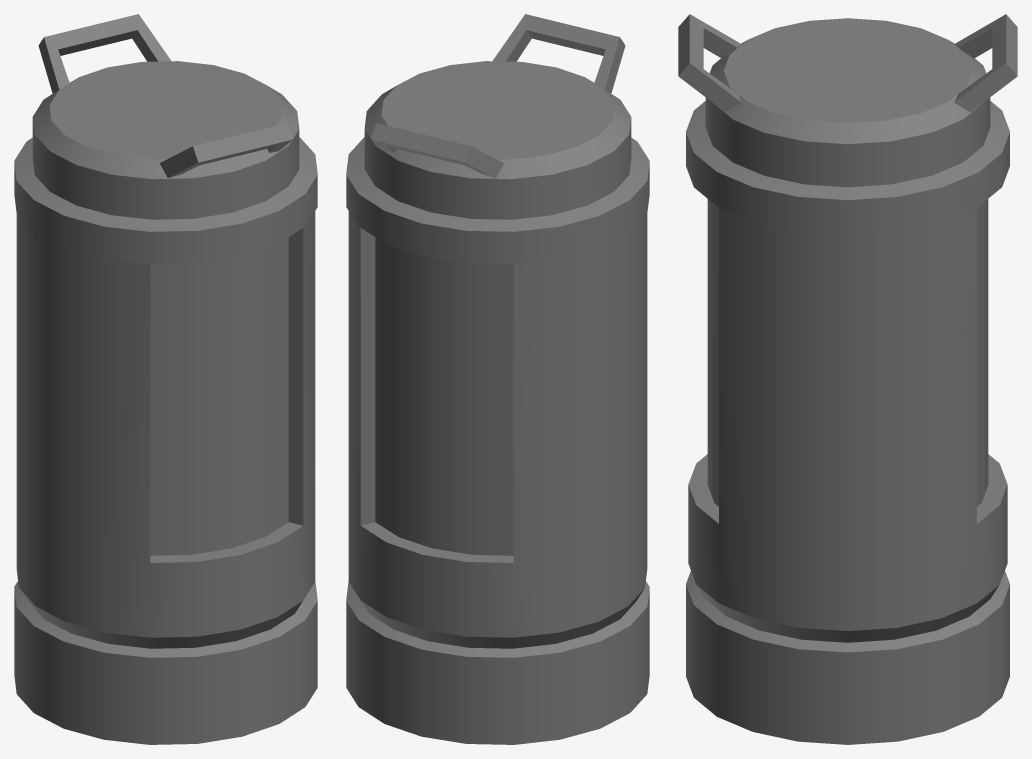
Rendered from q-scifi-mod-prop-barrel-large.glb.
3 views of the same model, side by side, from view 1: azimuth 30°, elevation 25°; view 2: azimuth 150°, elevation 25°; view 3: azimuth 270°, elevation 25° (orthographic). The views are drawn at different scales.
Parts seen in each view (by area): view 1: Prop_Barrel_Large; view 2: Prop_Barrel_Large; view 3: Prop_Barrel_Large.
Boxes of the visible parts, left/top/right/bottom form: Prop_Barrel_Large: left=14, top=14, right=317, bottom=744; Prop_Barrel_Large: left=346, top=14, right=649, bottom=744; Prop_Barrel_Large: left=678, top=14, right=1017, bottom=744.
Bounding box in the file's own units: 0.5078 × 1.1 × 0.532.
Materials: 2 (2 with a texture image).
